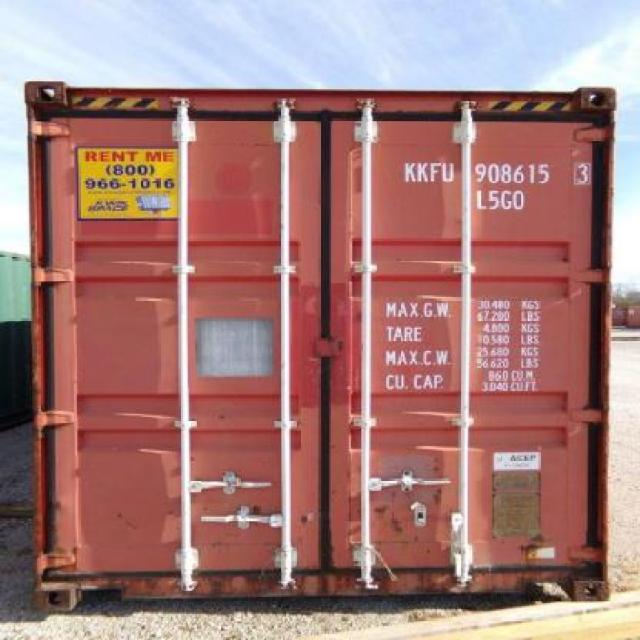ISO: (477, 188, 527, 210)
container_number: (406, 157, 584, 185)
